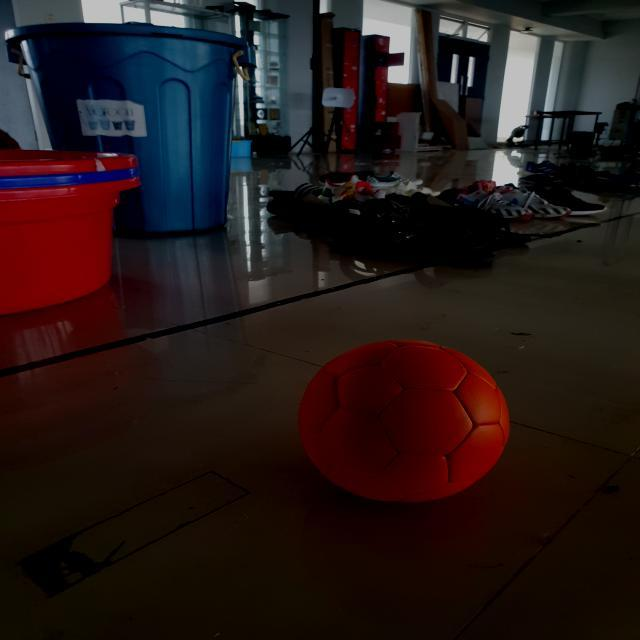bola: (292, 333, 510, 509)
